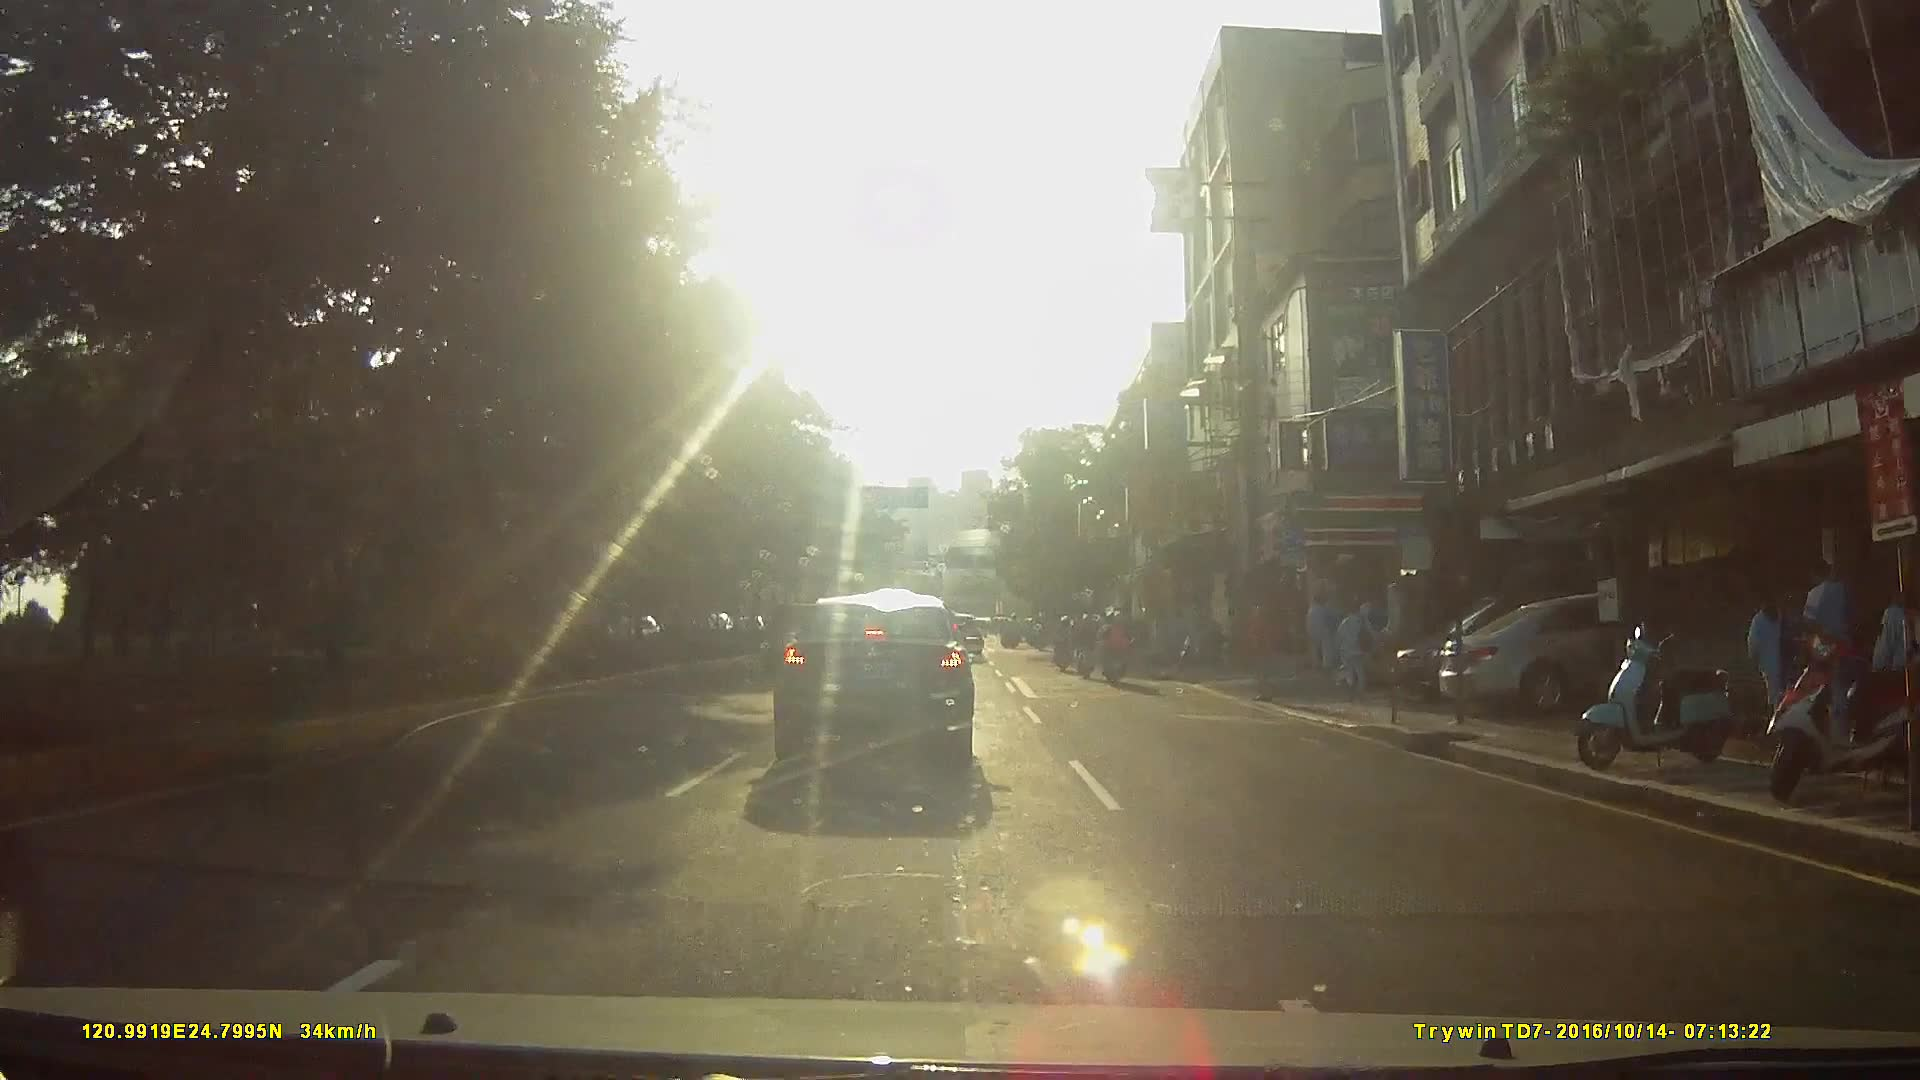pedestrian: (1796, 555, 1857, 760), (1747, 576, 1799, 743), (1873, 579, 1920, 752), (1331, 595, 1378, 702)
rider: (1097, 611, 1136, 691), (1072, 613, 1098, 683), (1052, 616, 1077, 677)
vehicle: (754, 579, 996, 779), (1432, 589, 1779, 713)
